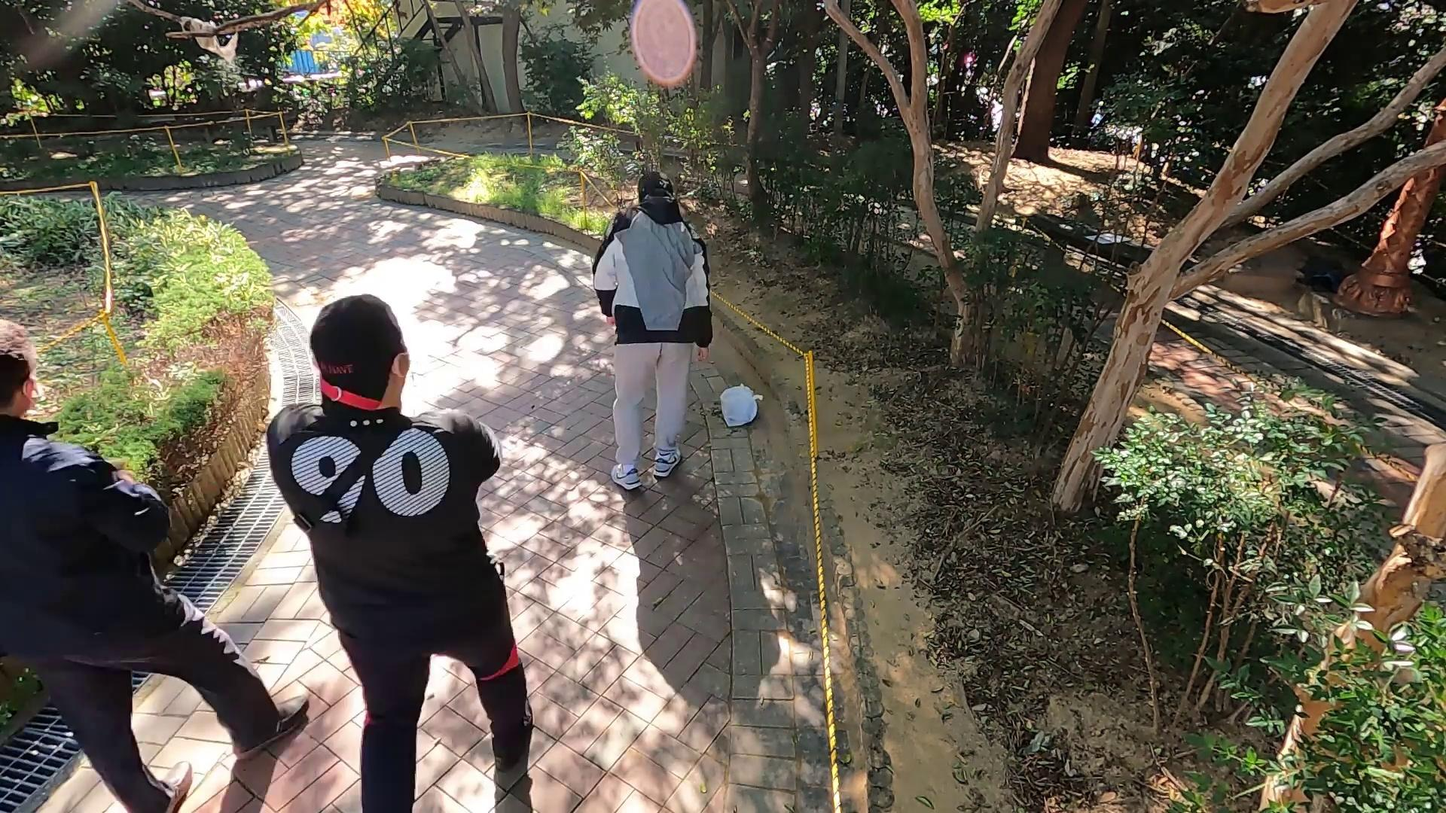person: (0, 317, 307, 813), (263, 292, 543, 813), (588, 168, 717, 496)
trash: (716, 385, 762, 429)
